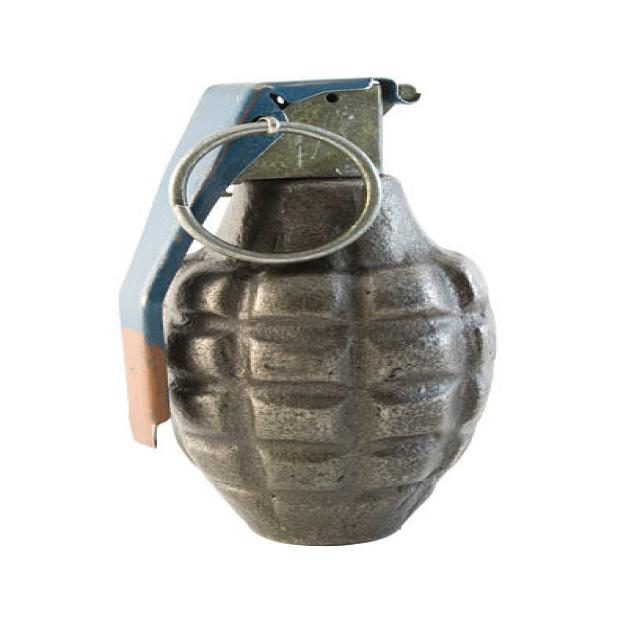grenade: (114, 65, 509, 561)
